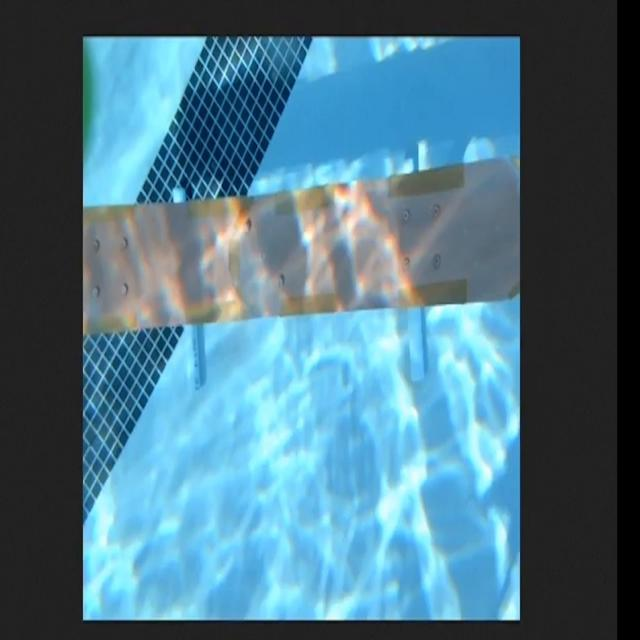Path: (84, 152, 523, 330)
